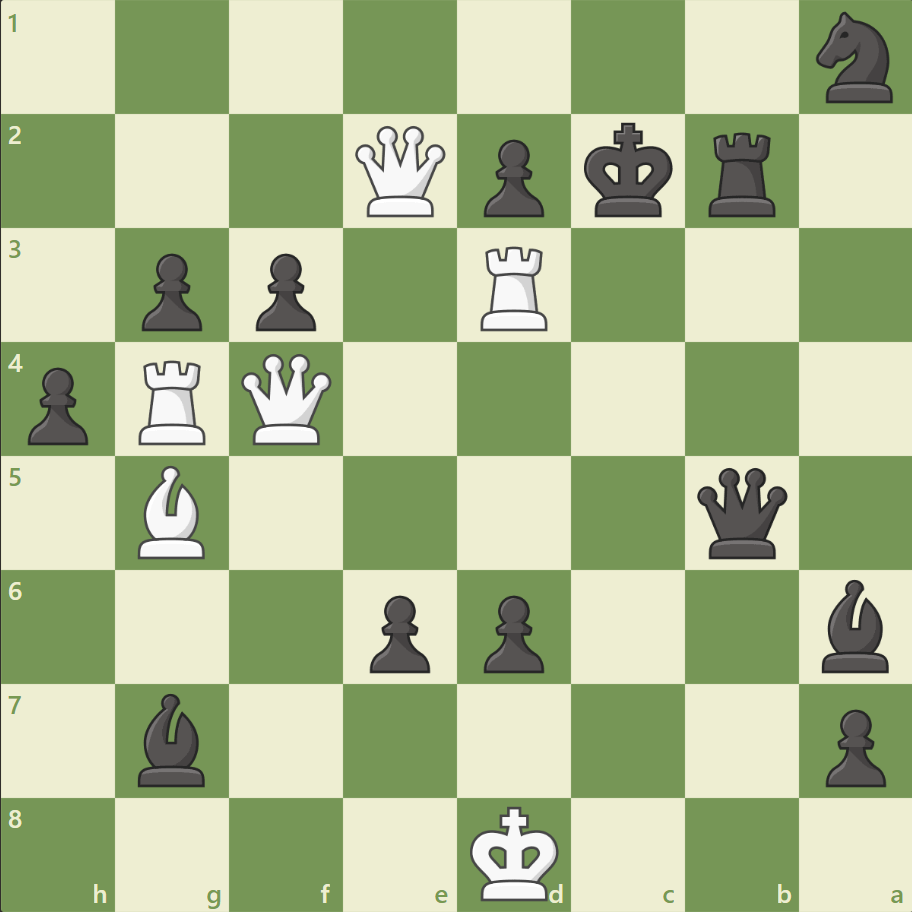B: (131, 460, 215, 563)
K: (465, 798, 565, 906)
Q: (237, 349, 336, 449), (351, 122, 450, 222)
R: (473, 239, 556, 336), (133, 352, 215, 449)
b: (131, 687, 215, 790), (812, 574, 896, 676)
k: (579, 117, 679, 225)
n: (806, 7, 903, 110)
p: (474, 586, 549, 677), (20, 359, 95, 450), (247, 246, 322, 337), (133, 246, 208, 337), (474, 132, 549, 223), (815, 700, 889, 791), (361, 586, 435, 677)
q: (691, 463, 790, 562)
r: (700, 125, 783, 222)
